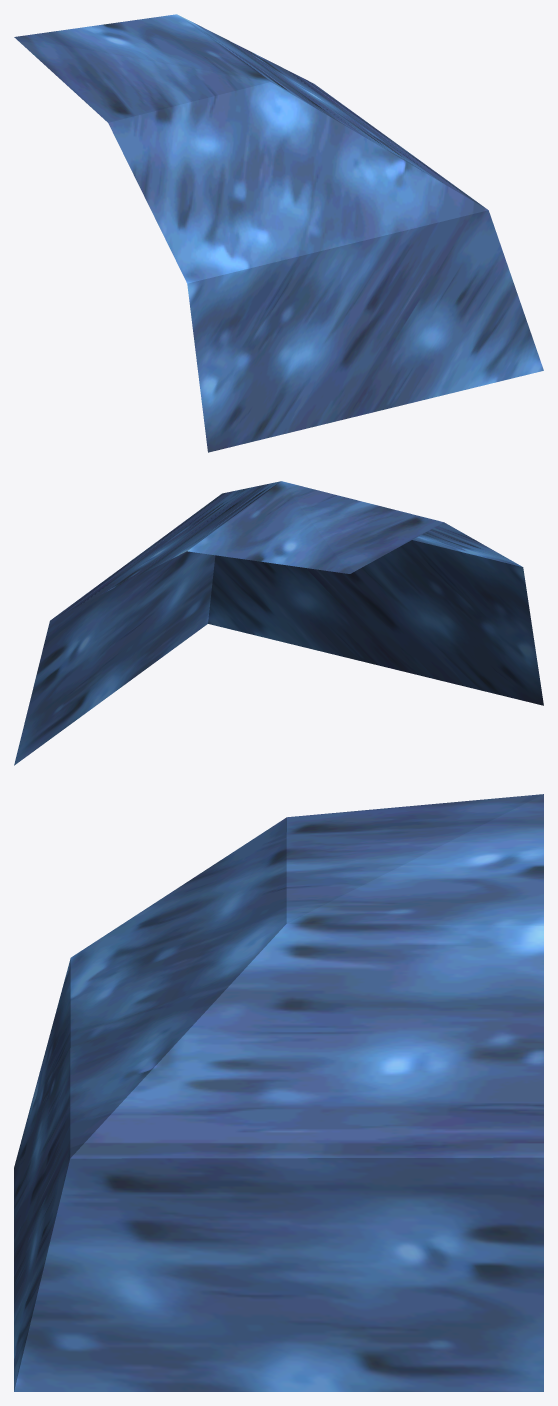
Rendered from Dach_HalbtonneEckverschluß [Jewelery]_2906.glb.
3 views of the same model, one above another, from view 1: azimuth 30°, elevation 25°; view 2: azimuth 150°, elevation 25°; view 3: azimuth 270°, elevation 25° (orthographic). The views are drawn at different scales.
Parts seen in each view (by area): view 1: polySurfaceShape1074; view 2: polySurfaceShape1074; view 3: polySurfaceShape1074.
Part boxes in pixels (x1,y1,x2,y2): polySurfaceShape1074: (14, 14, 543, 452); polySurfaceShape1074: (14, 481, 543, 765); polySurfaceShape1074: (14, 794, 543, 1391).
Bounding box in the file's own units: 0.5 × 0.3891 × 0.5.
Materials: 1 (1 with a texture image).
